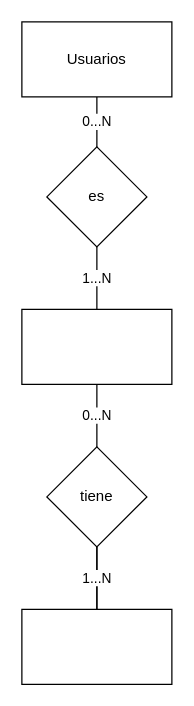
The diagram is 194 pixels wide and 706 high, and some of its shapes have lost their labels. Each missing label, with the centre of its shape:
"Permisos" belongs at point (96, 646).
"Roles" belongs at point (96, 346).
